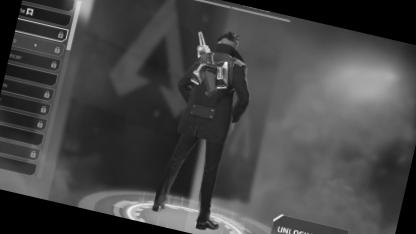Target: (153, 18, 261, 199)
